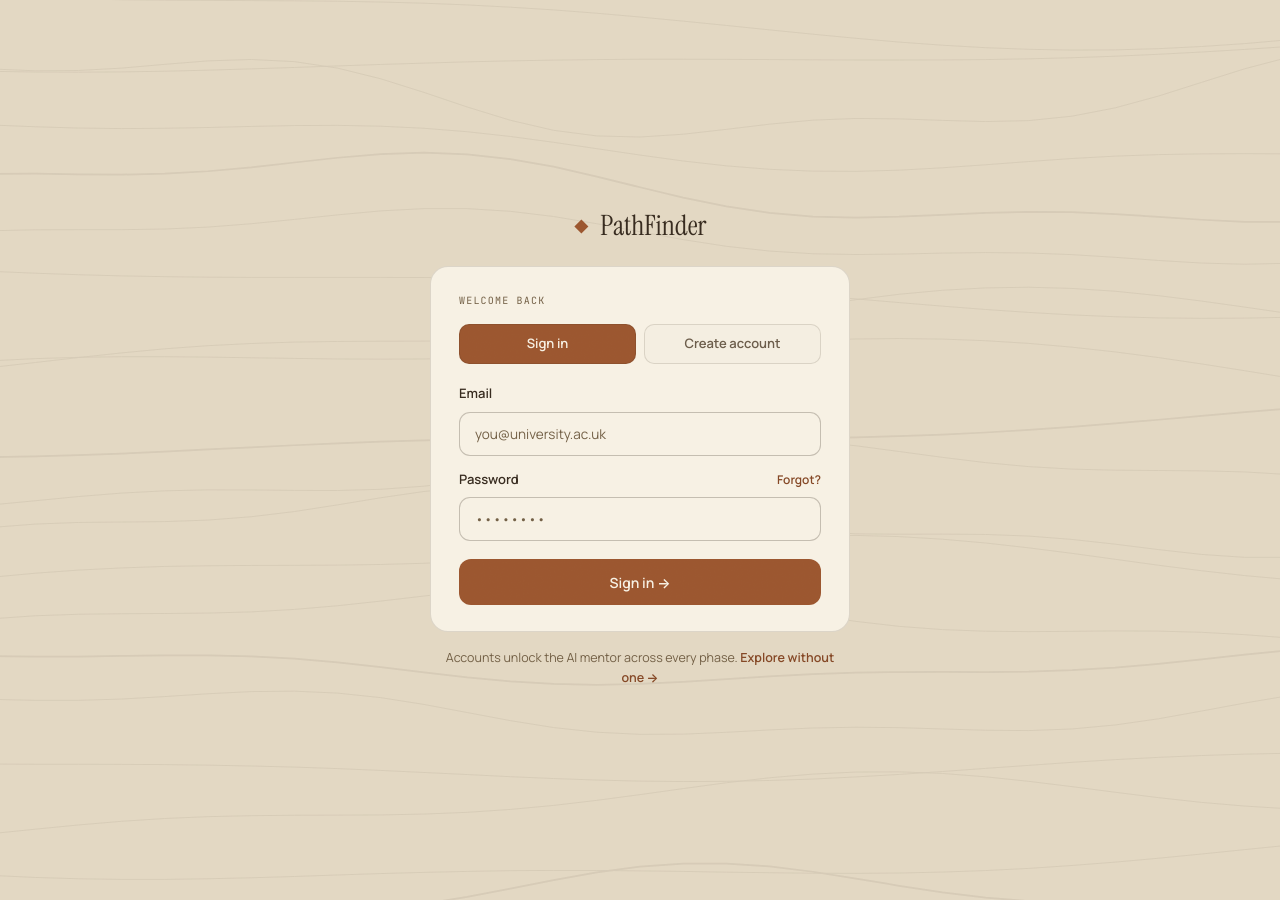
Test: Login page heading › has exactly one level-1 heading, which follows the sign-in / sign-up mode
The image size is (1280, 900).
Check: the number of headings is 1, box [459,294,545,307]
Check: the heading reads "Welcome back", box [459,294,545,307]
Click the button "Create account" at (732, 344), box [644,324,821,364]
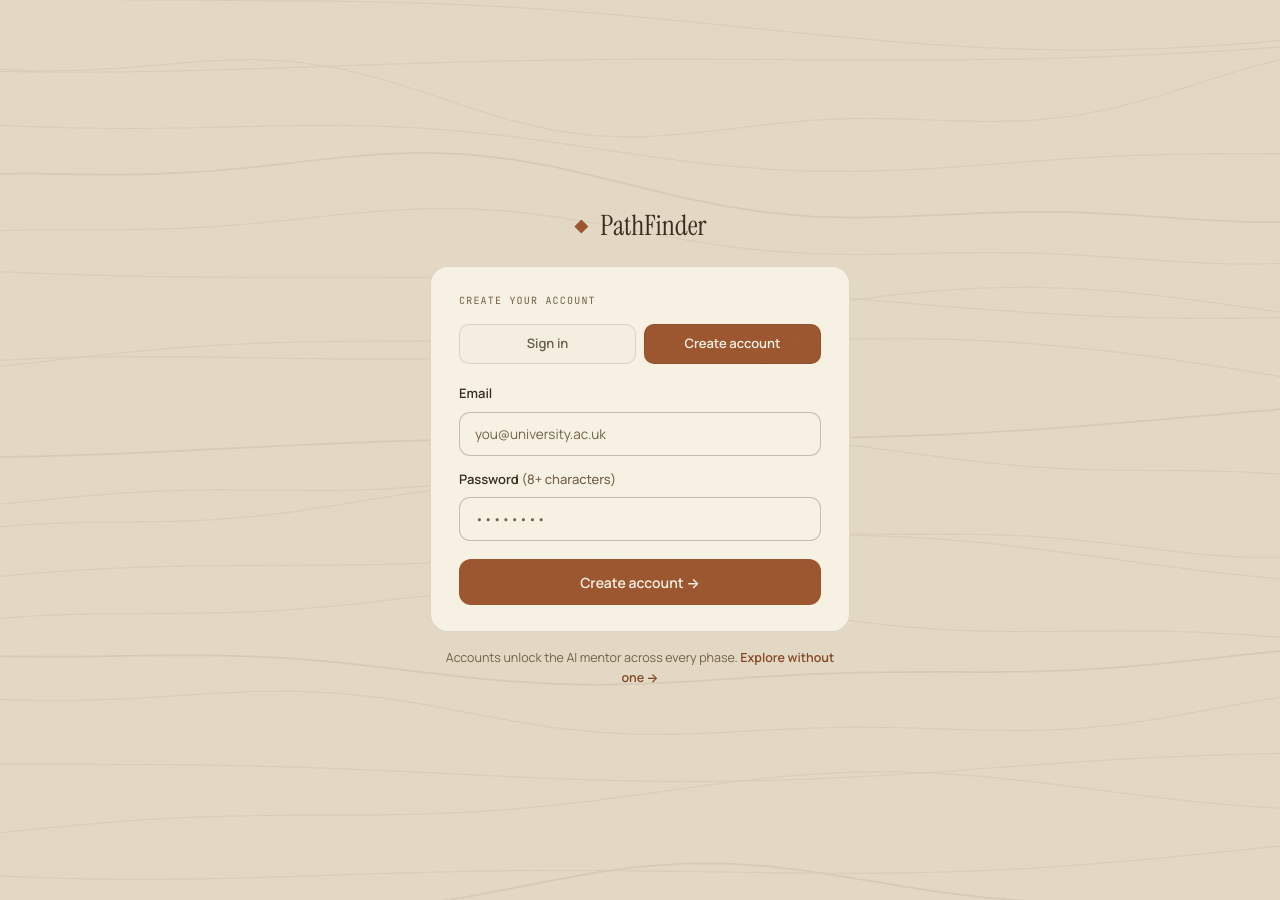
Check: the heading reads "Create your account", box [459,294,596,307]
